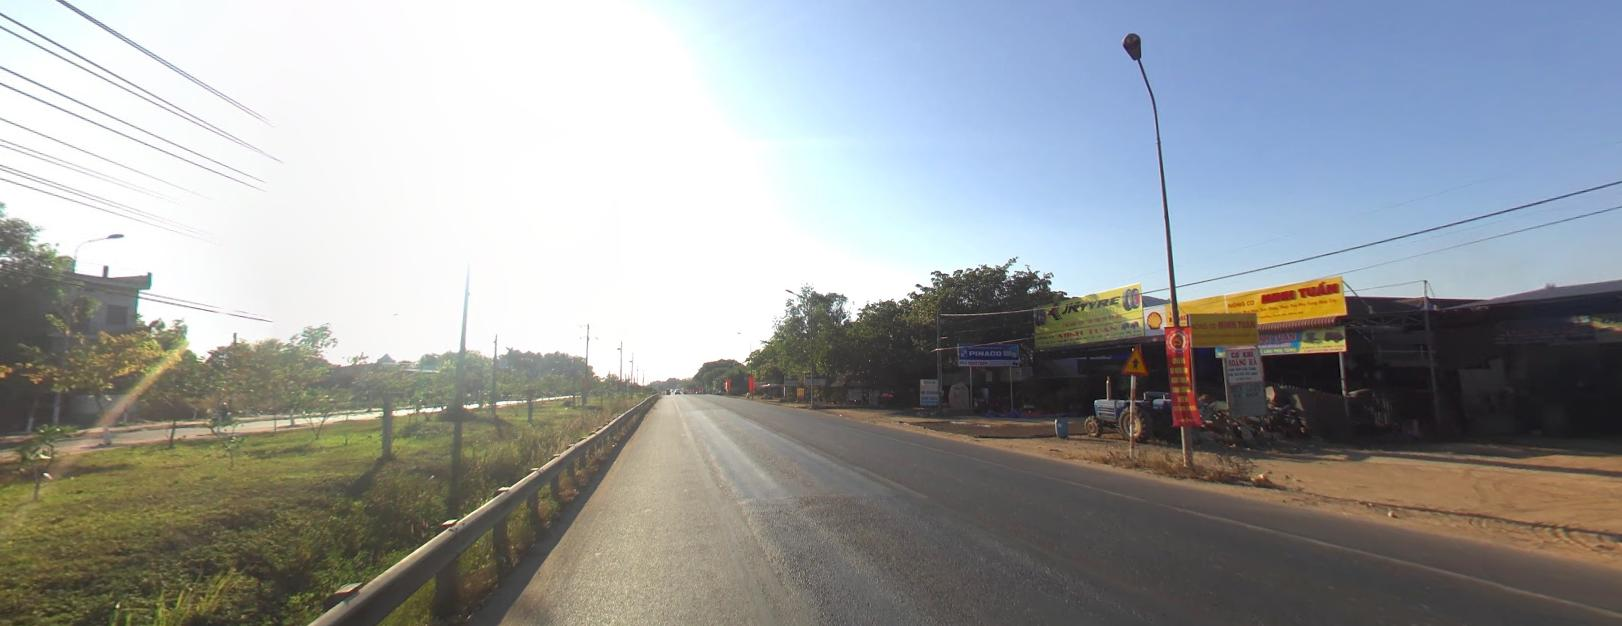Nguy hiem: (1120, 342, 1150, 374)
